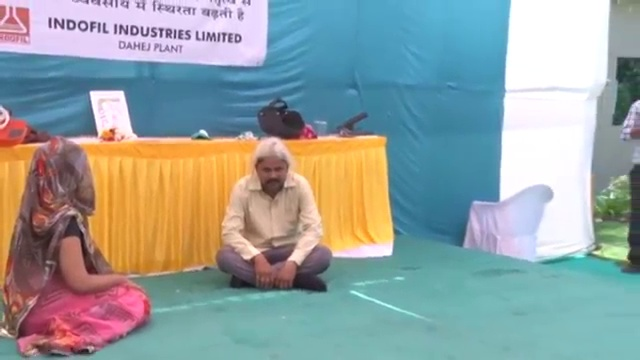helmet_off: (24, 142, 95, 213), (252, 141, 289, 191)
person: (1, 136, 158, 358), (216, 138, 332, 292), (619, 89, 640, 274)
